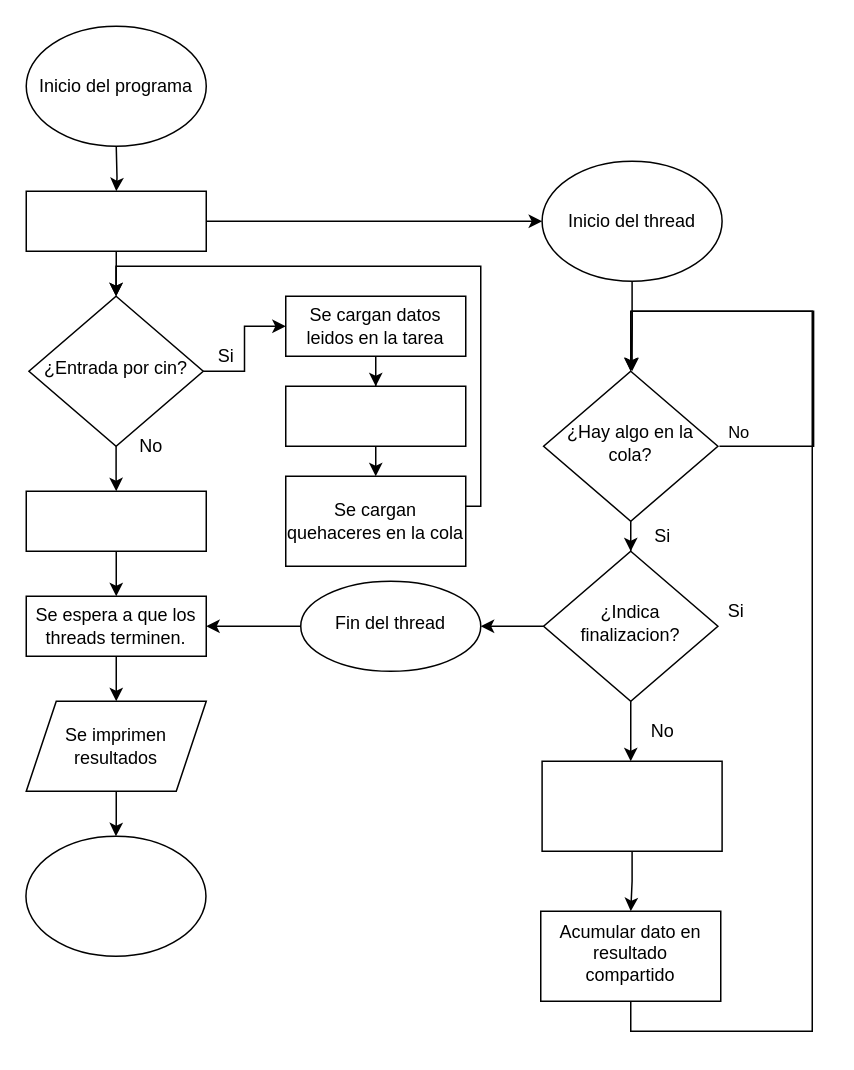
This 854x1070 diagram has some shape labels left out. Here are the shapes that lost their labels. From the top down, the centre of each, then its label:
the point at 115,220: Se lanzan los threads
the point at 375,415: Se leen los datos y se cargan particiones
the point at 115,520: Se cargan tokens de finalizacion en la cola
the point at 631,805: Operar
the point at 115,895: Fin del programa
